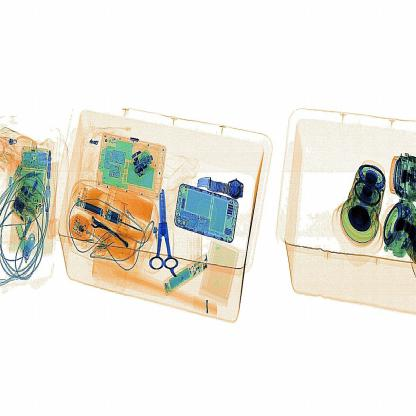gun: (145, 182, 188, 274)
